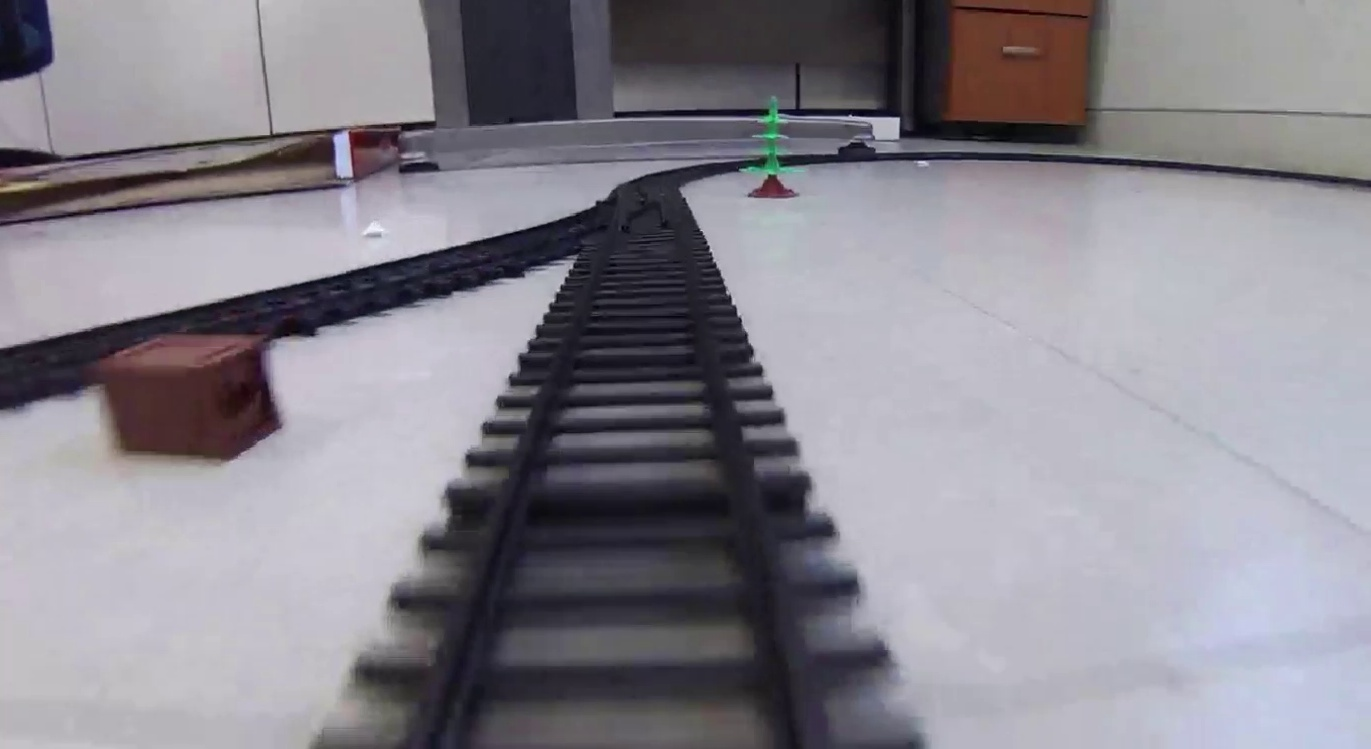box: (96, 336, 286, 461)
tree: (742, 95, 805, 199)
